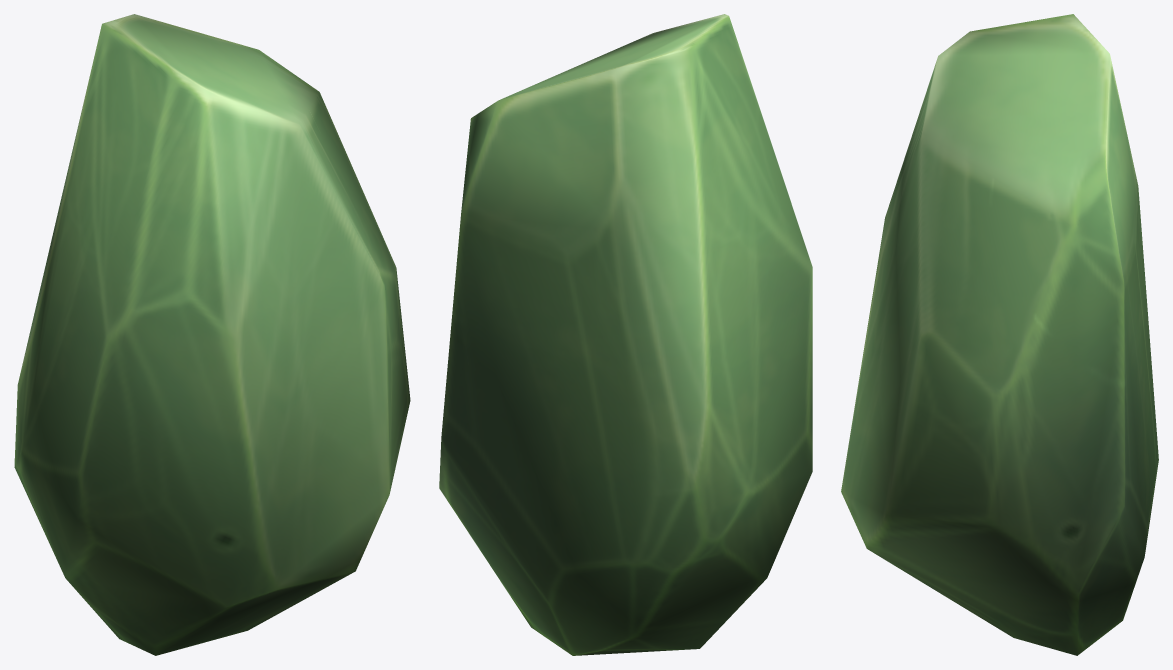
File: SM_Gem_Jade_001.fbx
3 views of the same model, side by side, from view 1: azimuth 30°, elevation 25°; view 2: azimuth 150°, elevation 25°; view 3: azimuth 270°, elevation 25° (orthographic). The views are drawn at different scales.
Parts seen in each view (by area): view 1: SM_Gem_Jade_001; view 2: SM_Gem_Jade_001; view 3: SM_Gem_Jade_001.
Part boxes in pixels (bbox=[...]): SM_Gem_Jade_001: bbox=[14, 14, 410, 655]; SM_Gem_Jade_001: bbox=[439, 14, 812, 655]; SM_Gem_Jade_001: bbox=[841, 14, 1158, 655].
Bounding box in the file's own units: 25.73 × 43.8 × 22.06.
